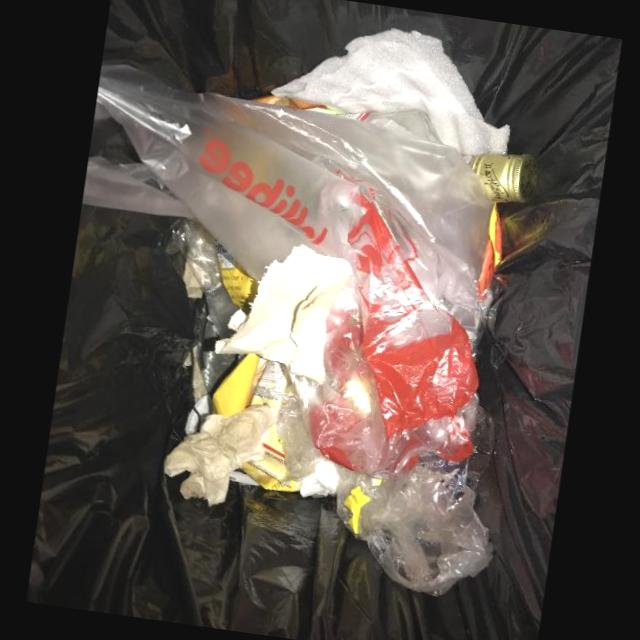bao_bi_thuc_pham: (213, 353, 301, 491), (216, 243, 260, 307)
giay: (214, 243, 353, 385), (162, 401, 281, 506)
tui_ni_long: (83, 30, 494, 597), (167, 214, 247, 339)
